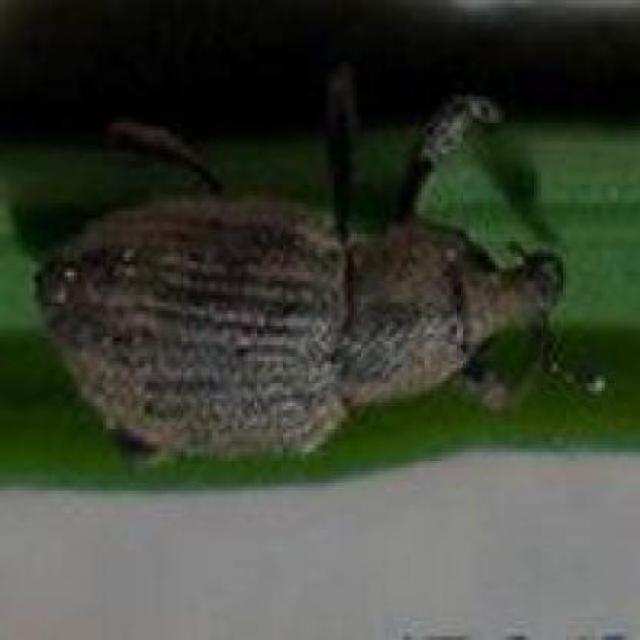rice-bug: (29, 76, 565, 476)
